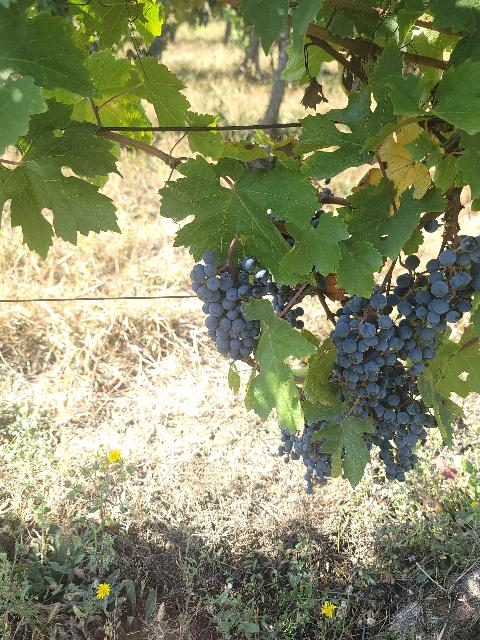grapes: (190, 250, 270, 360), (331, 296, 391, 398), (371, 391, 438, 481), (415, 236, 479, 315)
